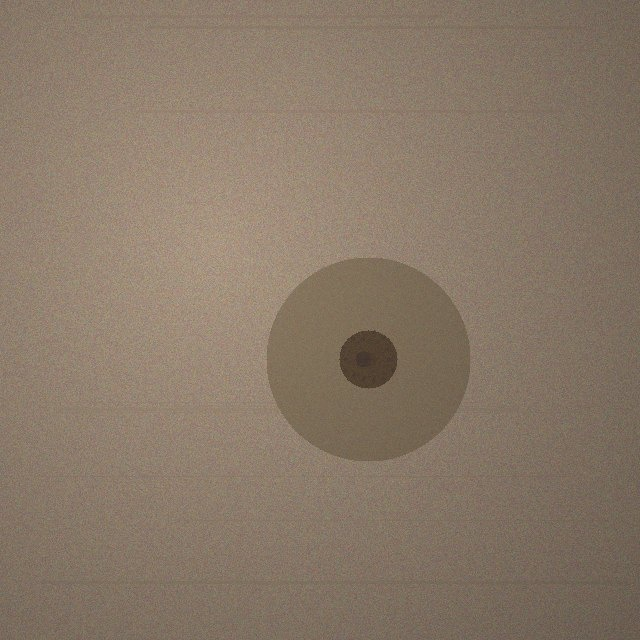cold_weld: (266, 257, 470, 461)
